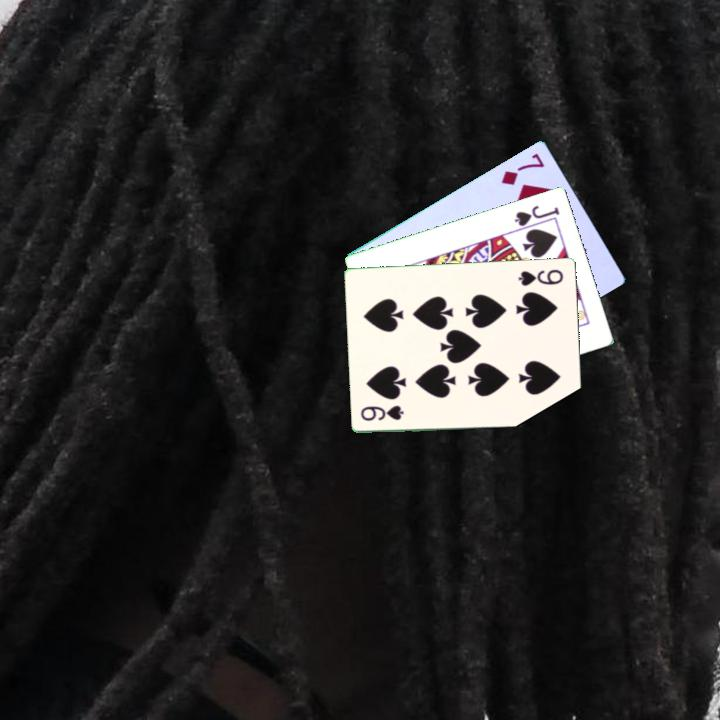7d: (498, 149, 547, 188)
9s: (515, 265, 566, 288), (358, 402, 407, 424)
Js: (511, 201, 563, 229)
